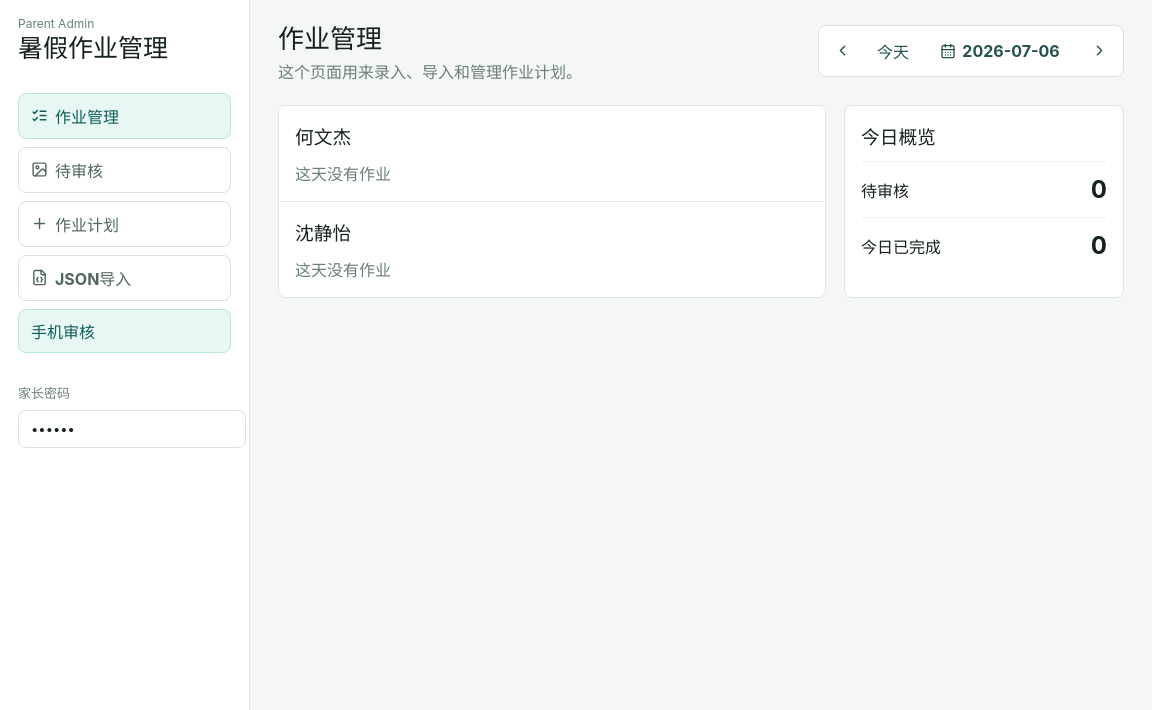
Test case: AdminManage › shows plan status without completion actions in the plan overview
Click the 6th button.
click(124, 224)  # box [18,200,231,246]
(page scrolled)
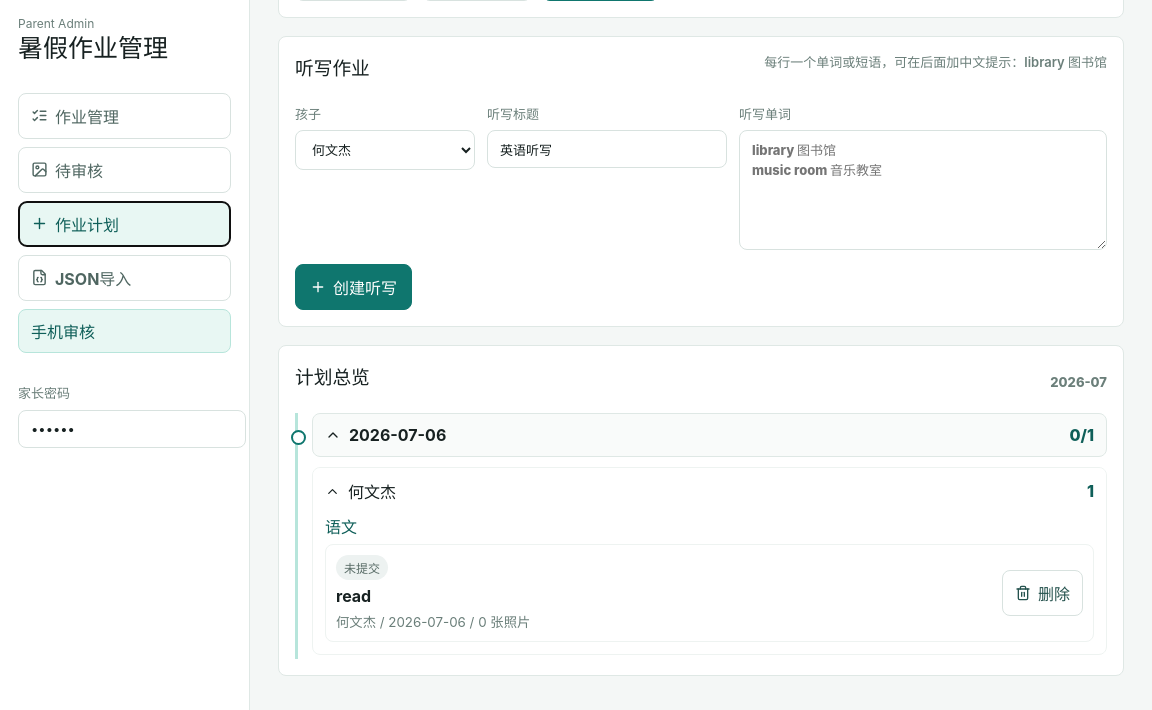
Check: the text "read" is shown, box [336,586,371,606]
